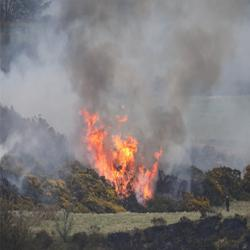fire: (94, 133, 137, 179)
